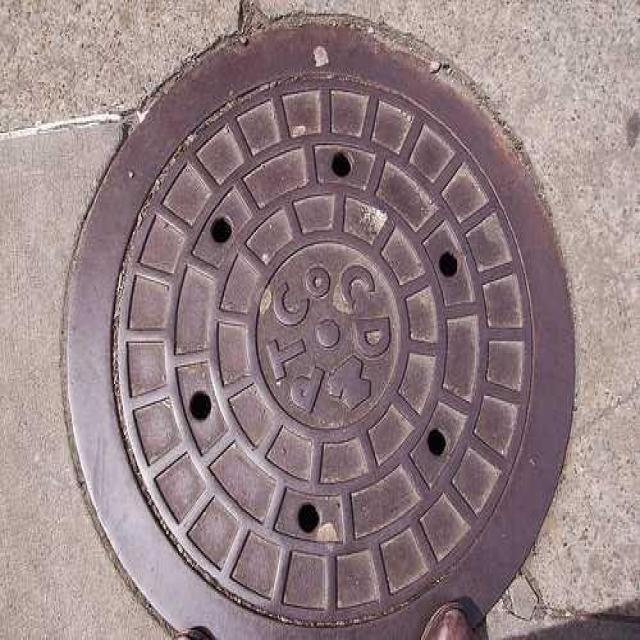manhole: (64, 17, 574, 638)
